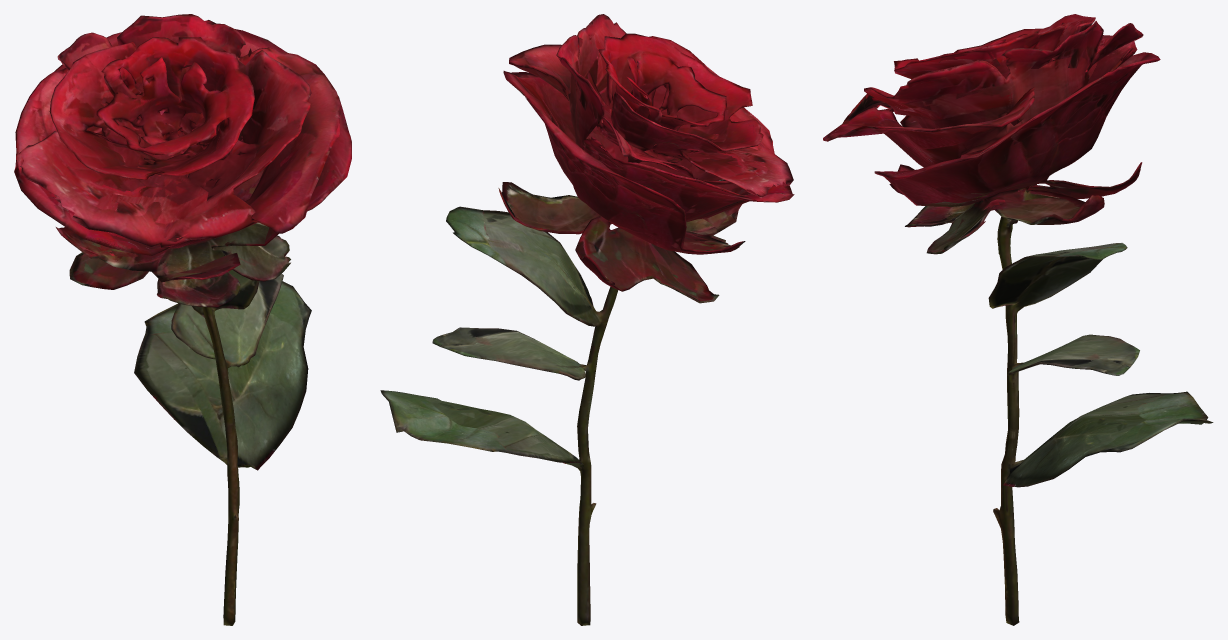
File: Flowers.glb
3 views of the same model, side by side, from view 1: azimuth 30°, elevation 25°; view 2: azimuth 150°, elevation 25°; view 3: azimuth 270°, elevation 25° (orthographic).
Parts seen in each view (by area): view 1: Mesh_0; view 2: Mesh_0; view 3: Mesh_0.
Boxes of the visible parts, x1,y1,x2,y2 form: Mesh_0: (14,14,351,625); Mesh_0: (380,14,794,625); Mesh_0: (823,14,1213,625).
Size of the model in its own units: 1.06 by 1.76 by 1.07.
Materials: 1 (1 with a texture image).
